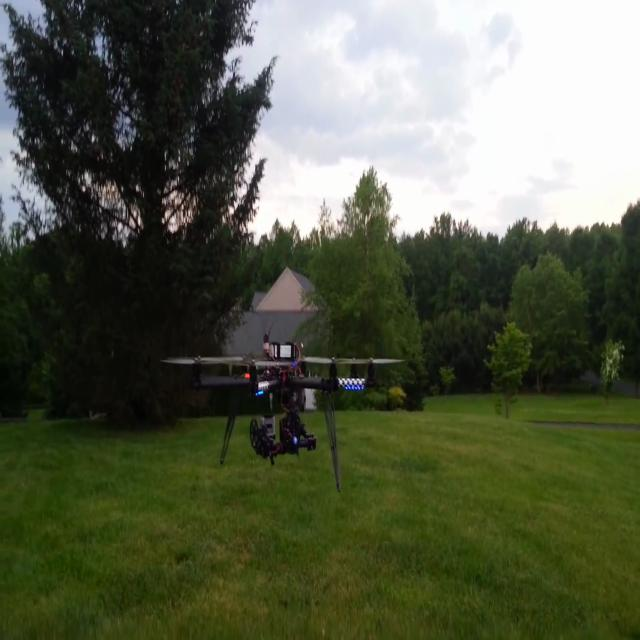drone: (153, 237, 393, 494)
